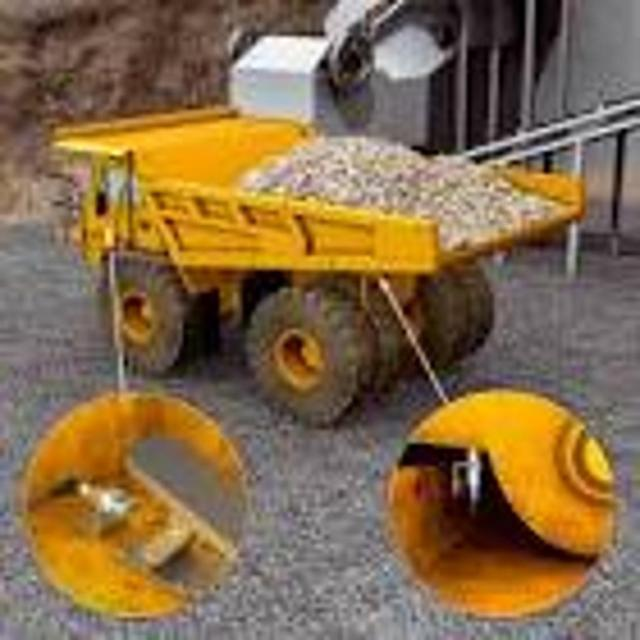dump_truck: (45, 88, 582, 424)
